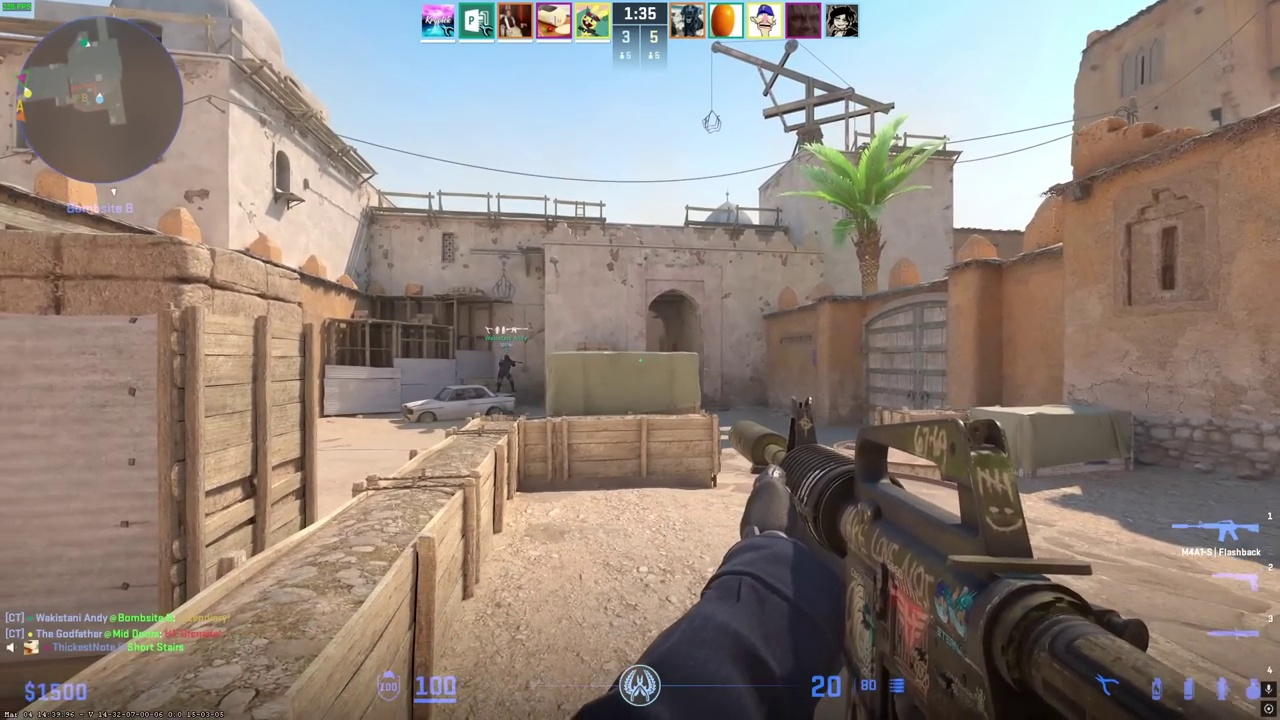CT: (496, 354, 515, 394)
